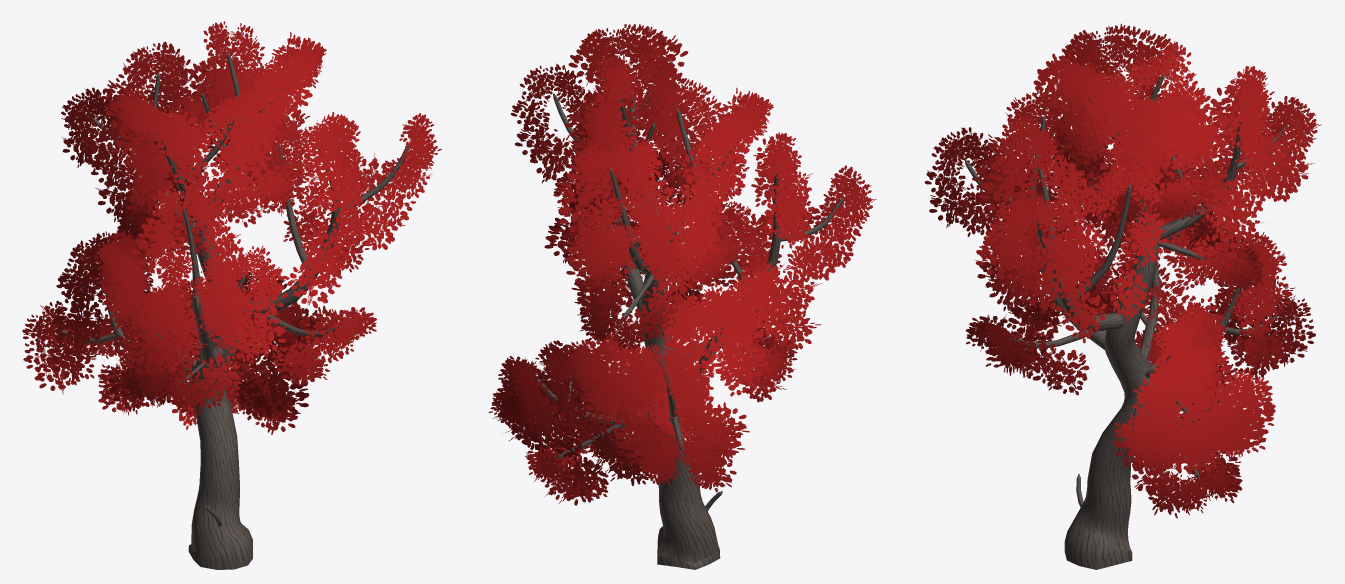
The model's file is TwistedTree_3.gltf.
3 views of the same model, side by side, from view 1: azimuth 30°, elevation 25°; view 2: azimuth 150°, elevation 25°; view 3: azimuth 270°, elevation 25° (orthographic). The views are drawn at different scales.
Parts seen in each view (by area): view 1: TwistedTree_3; view 2: TwistedTree_3; view 3: TwistedTree_3.
Part boxes in pixels (box(x1,y1,x2,y2)): TwistedTree_3: box(22, 21, 441, 569); TwistedTree_3: box(488, 24, 876, 569); TwistedTree_3: box(924, 23, 1321, 569).
Bounding box in the file's own units: 11.36 × 16.39 × 11.51.
Materials: 2 (2 with a texture image).
